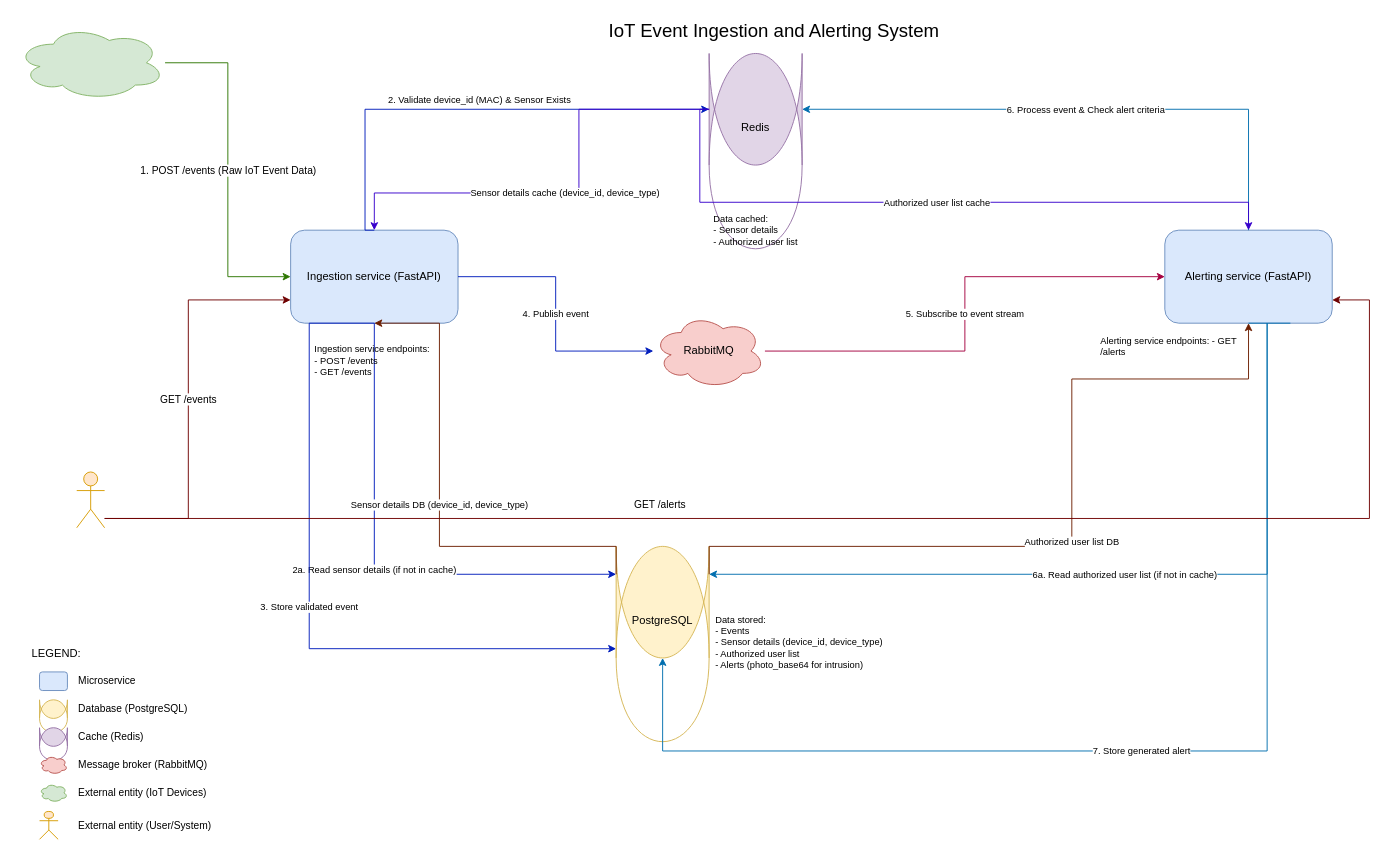
The diagram is 1393 pixels wide and 856 high, and some of its shapes have lost their labels. The shapes that lost their labels are listed below. From the top down, each one's centre as x and y in pixels, then its label:
At point (90, 62): "IoT Devices (Radar, Security Camera, Access Controller)".
At point (90, 499): "User / External system".
